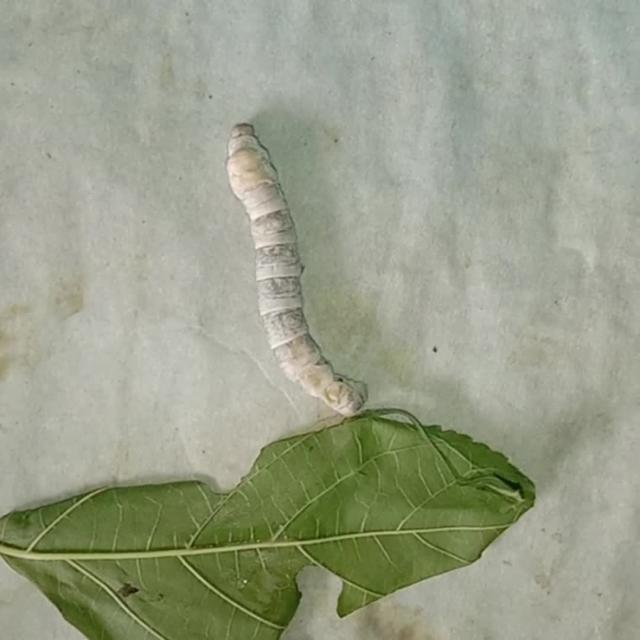Grasserie: (216, 110, 374, 421)
